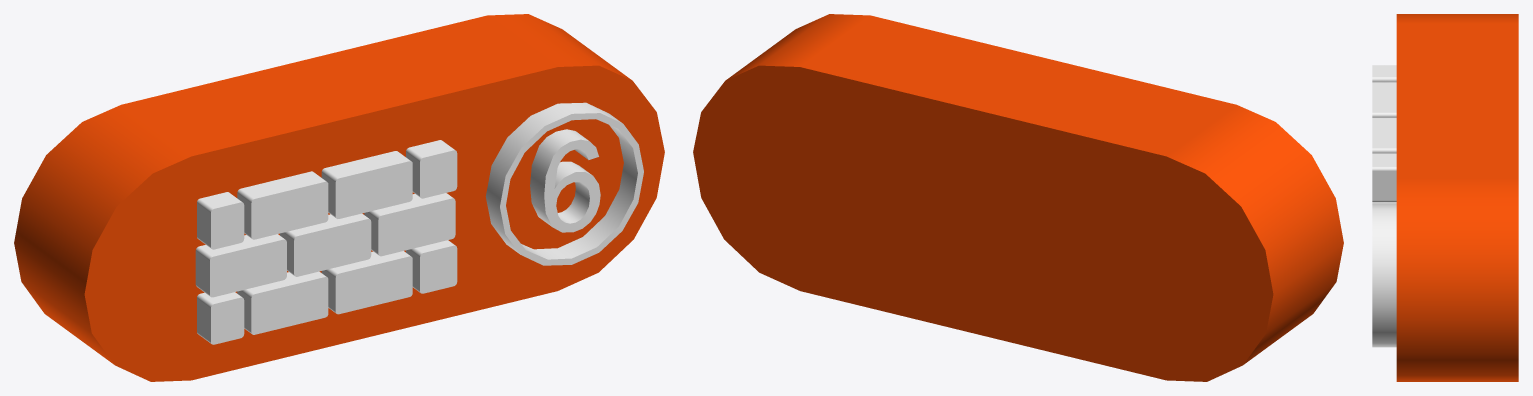
Rendered from Wall_6.fbx.
3 renders of one model, left to right at view 1: azimuth 30°, elevation 25°; view 2: azimuth 150°, elevation 25°; view 3: azimuth 270°, elevation 25°, orthographic. The views are drawn at different scales.
Parts seen in each view (by area): view 1: Orange, Object_14, Object_15, Object_11, Object_10, Object_9, Object_7, Object_8, Object_4, Object_5, Object_3, Object_12 (+2 smaller); view 2: Orange; view 3: Orange, Object_14, Object_3, Object_10, Object_11, Object_12.
Boxes of the visible parts, left/top/right/bottom form: Orange: left=14, top=14, right=664, bottom=381; Object_14: left=485, top=102, right=643, bottom=265; Object_15: left=530, top=129, right=600, bottom=232; Object_11: left=237, top=171, right=328, bottom=239; Object_10: left=321, top=151, right=412, bottom=218; Object_9: left=195, top=234, right=286, bottom=297; Object_7: left=364, top=193, right=455, bottom=256; Object_8: left=280, top=213, right=371, bottom=276; Object_4: left=321, top=251, right=412, bottom=314; Object_5: left=237, top=271, right=328, bottom=334; Object_3: left=406, top=140, right=457, bottom=198; Object_12: left=197, top=192, right=244, bottom=249; Orange: left=693, top=14, right=1343, bottom=381; Orange: left=1396, top=14, right=1518, bottom=381; Object_14: left=1372, top=203, right=1396, bottom=347; Object_3: left=1372, top=153, right=1396, bottom=202; Object_10: left=1372, top=118, right=1396, bottom=153; Object_11: left=1372, top=82, right=1396, bottom=117; Object_12: left=1372, top=65, right=1396, bottom=82.
Bounding box in the file's own units: 4.75 × 1.2 × 1.75.
